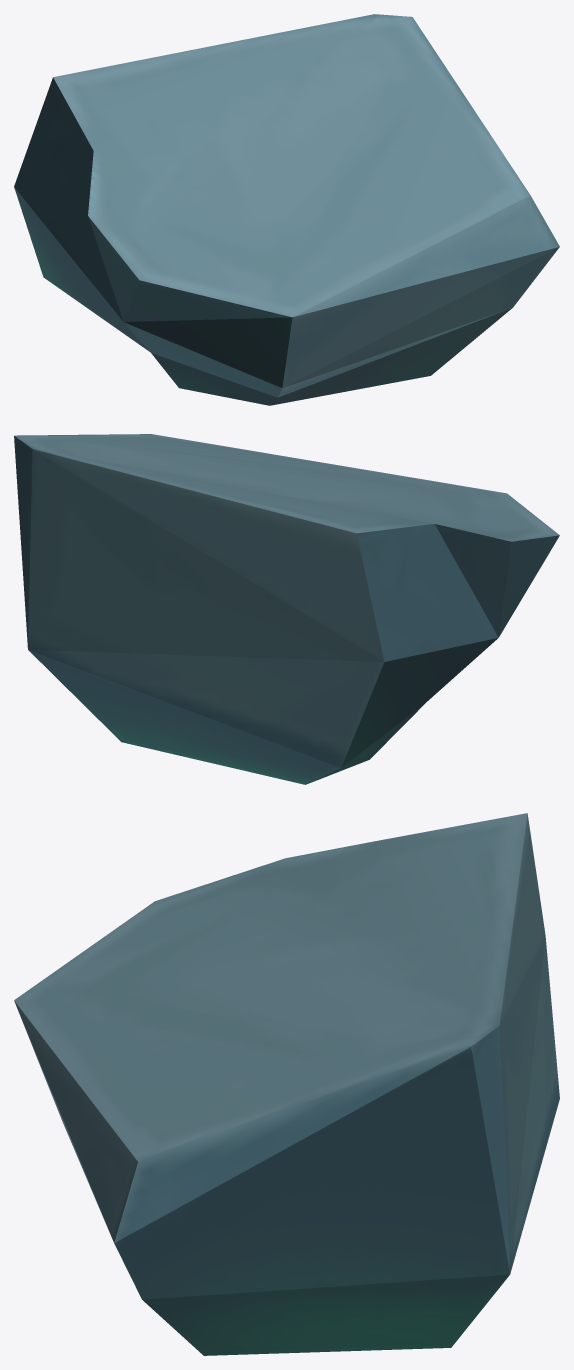
3 views of the same model, one above another, from view 1: azimuth 30°, elevation 25°; view 2: azimuth 150°, elevation 25°; view 3: azimuth 270°, elevation 25° (orthographic). The views are drawn at different scales.
Parts seen in each view (by area): view 1: CJ_PoLinKuang_01; view 2: CJ_PoLinKuang_01; view 3: CJ_PoLinKuang_01.
Part boxes in pixels (bbox=[...]): CJ_PoLinKuang_01: bbox=[14, 14, 559, 405]; CJ_PoLinKuang_01: bbox=[14, 434, 559, 784]; CJ_PoLinKuang_01: bbox=[14, 813, 559, 1355].
Size of the model in its own units: 0.1276 by 0.0818 by 0.1089.
Materials: 1 (1 with a texture image).
